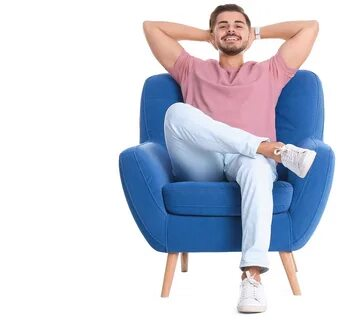awake: (140, 3, 320, 314)
